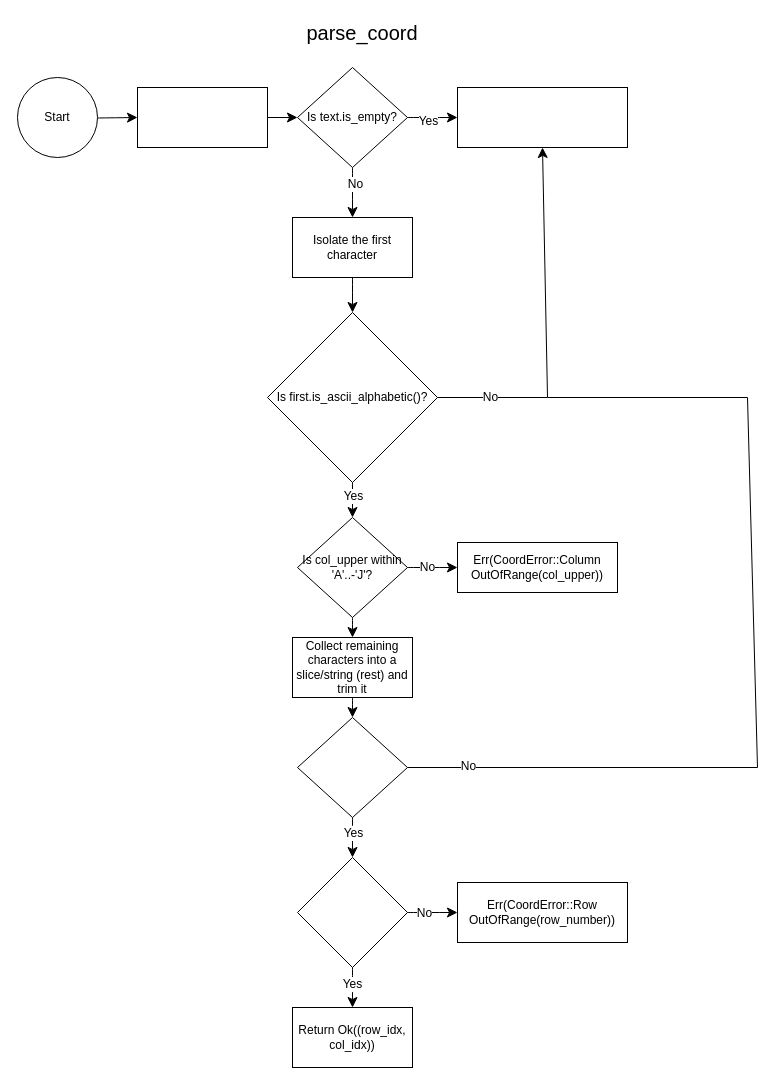
This 776x1085 diagram has some shape labels left out. Here are the shapes that lost their labels. From the top down, the centre of each, then its label:
At (x=202, y=117): "Trim whitespace from text".
At (x=542, y=117): "Err(CoordError::BadFormat)".
At (x=352, y=767): "Does rest.parse::<usize>() succeed?".
At (x=352, y=912): "Is row_number between 1 and 10".
